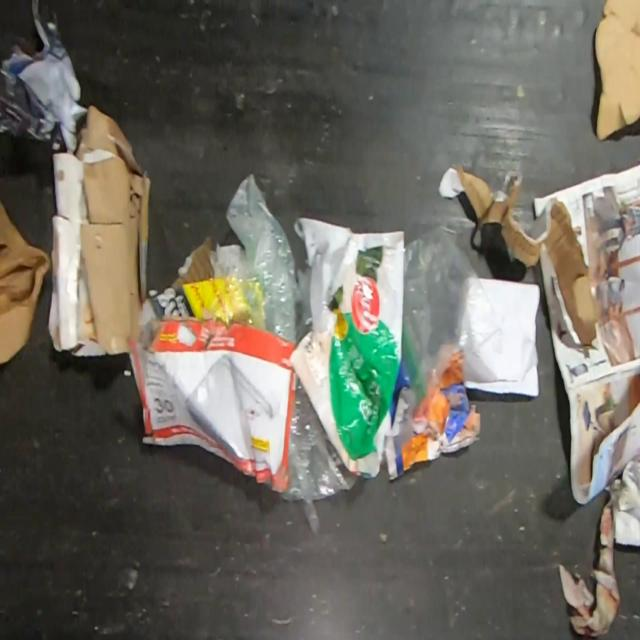cardboard: (126, 316, 298, 493), (437, 165, 597, 352), (46, 105, 152, 361), (138, 234, 214, 345), (593, 0, 640, 146)
soft_plastic: (289, 214, 406, 479), (197, 172, 312, 345), (402, 217, 503, 407), (280, 379, 361, 534)
